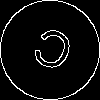C: (25, 25, 77, 82)
